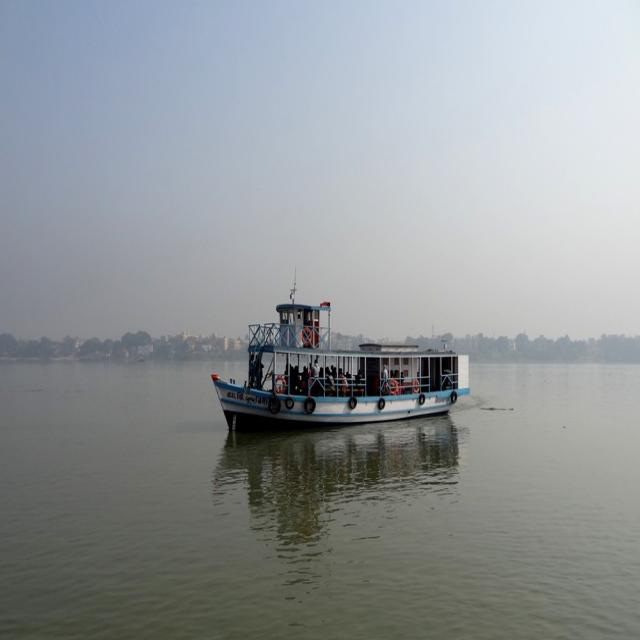fishing boat: (208, 276, 477, 426)
